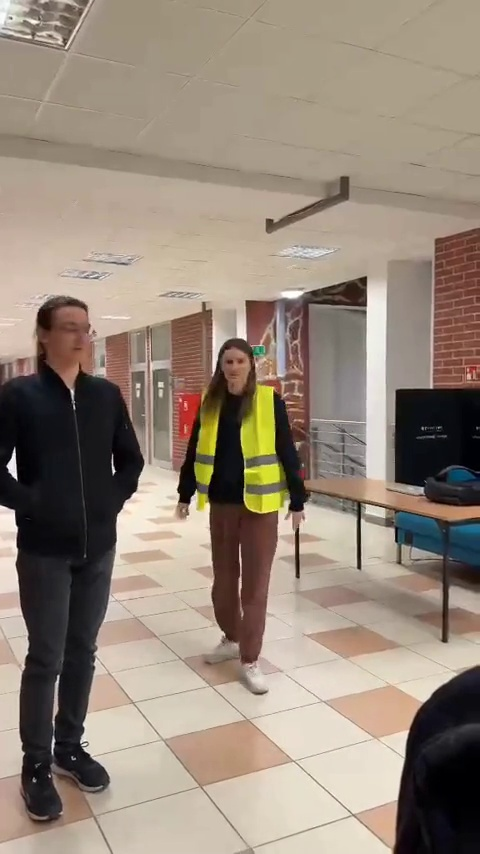no vest: (0, 296, 141, 822)
vest: (180, 341, 307, 704)
